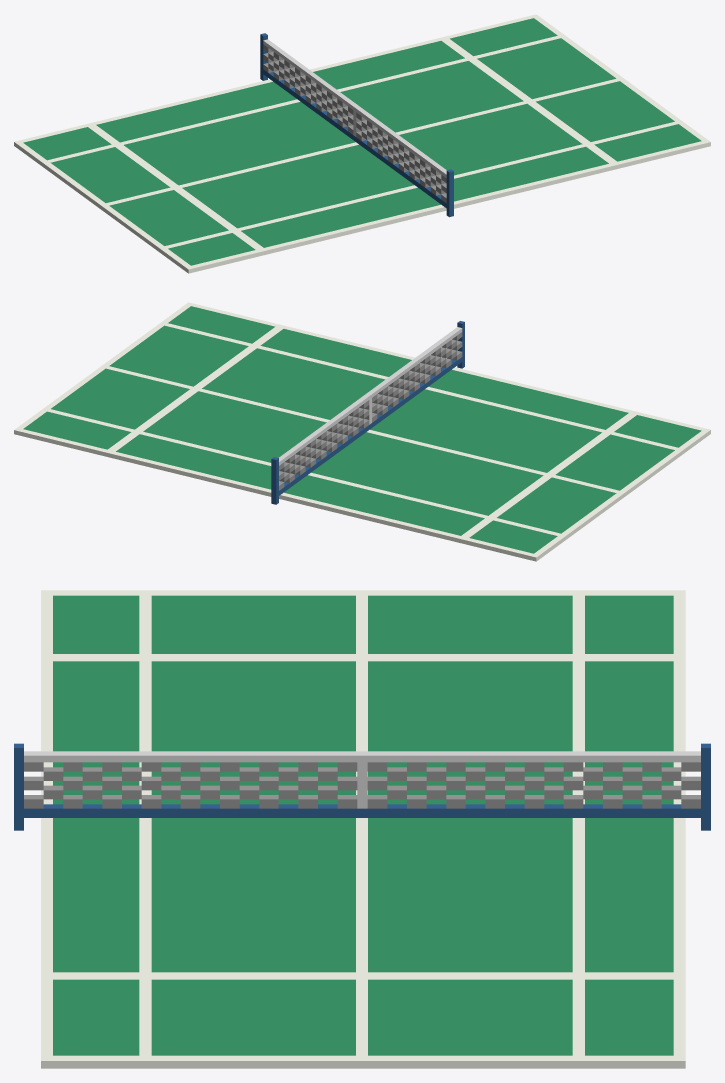
The model's file is TennisCourt.fbx.
3 renders of one model, top to bottom at view 1: azimuth 30°, elevation 25°; view 2: azimuth 150°, elevation 25°; view 3: azimuth 270°, elevation 25°, orthographic. The views are drawn at different scales.
Parts seen in each view (by area): view 1: Cube.071; view 2: Cube.071; view 3: Cube.071.
Part boxes in pixels (x1,y1,x2,y2): Cube.071: (14,14,710,273); Cube.071: (14,302,710,561); Cube.071: (14,590,710,1068).
Size of the model in its own units: 1253 by 103 by 784.
